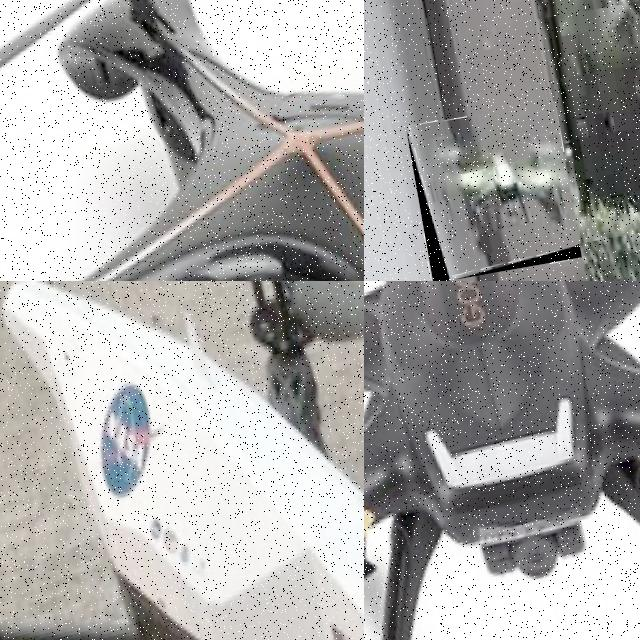0: (405, 101, 581, 281)
drone: (0, 281, 364, 640), (0, 0, 364, 281), (364, 281, 640, 640)
